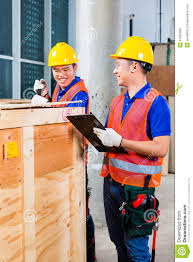helmet: (111, 35, 155, 66), (47, 41, 76, 65)
vest: (100, 93, 164, 186), (51, 84, 92, 164)
